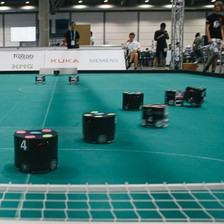goal: (37, 65, 80, 75)
robot: (10, 126, 61, 175), (78, 108, 120, 147), (140, 101, 171, 131), (183, 82, 209, 107), (120, 87, 145, 111), (163, 88, 185, 107), (67, 73, 81, 87), (33, 73, 44, 85), (50, 69, 60, 76)
